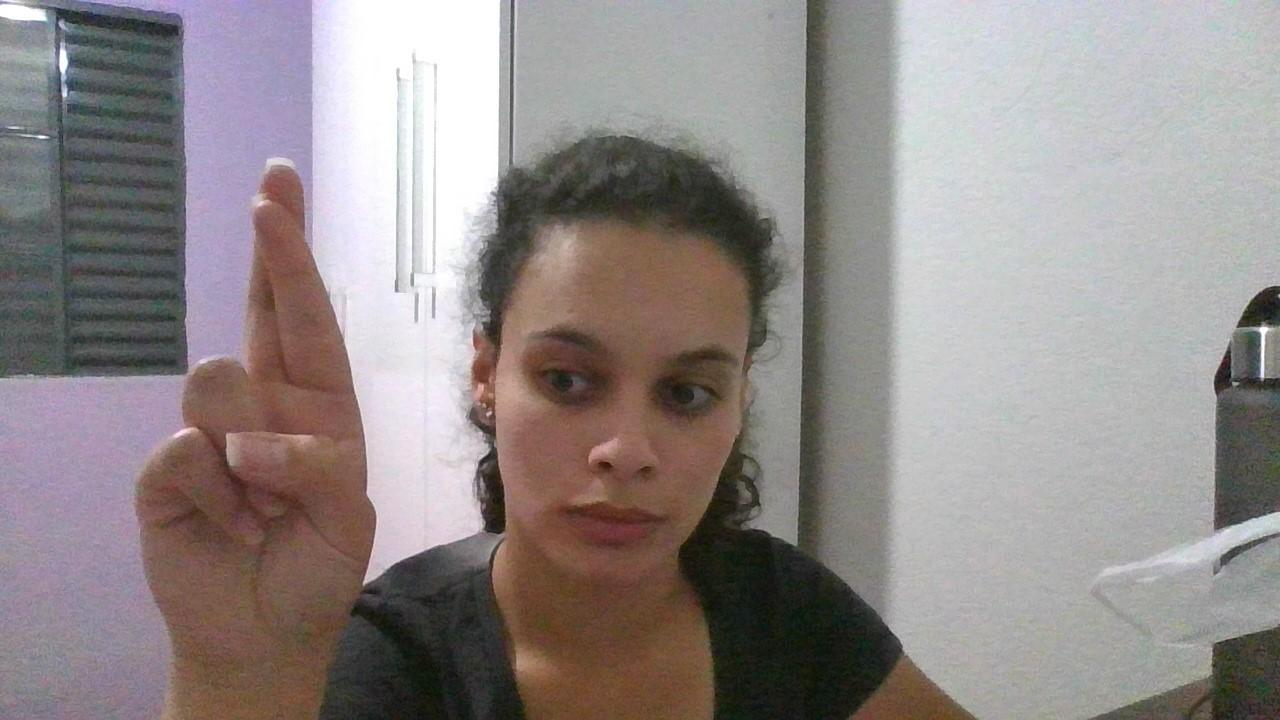R: (118, 146, 378, 648)
